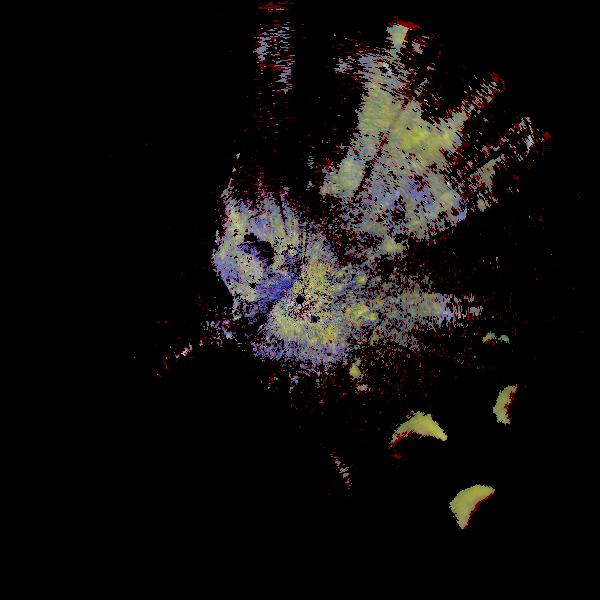roost: (367, 387, 514, 534), (474, 345, 600, 501), (429, 460, 567, 598)
